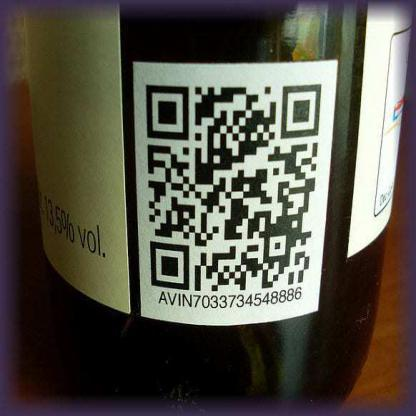qr_code: (145, 85, 322, 292)
